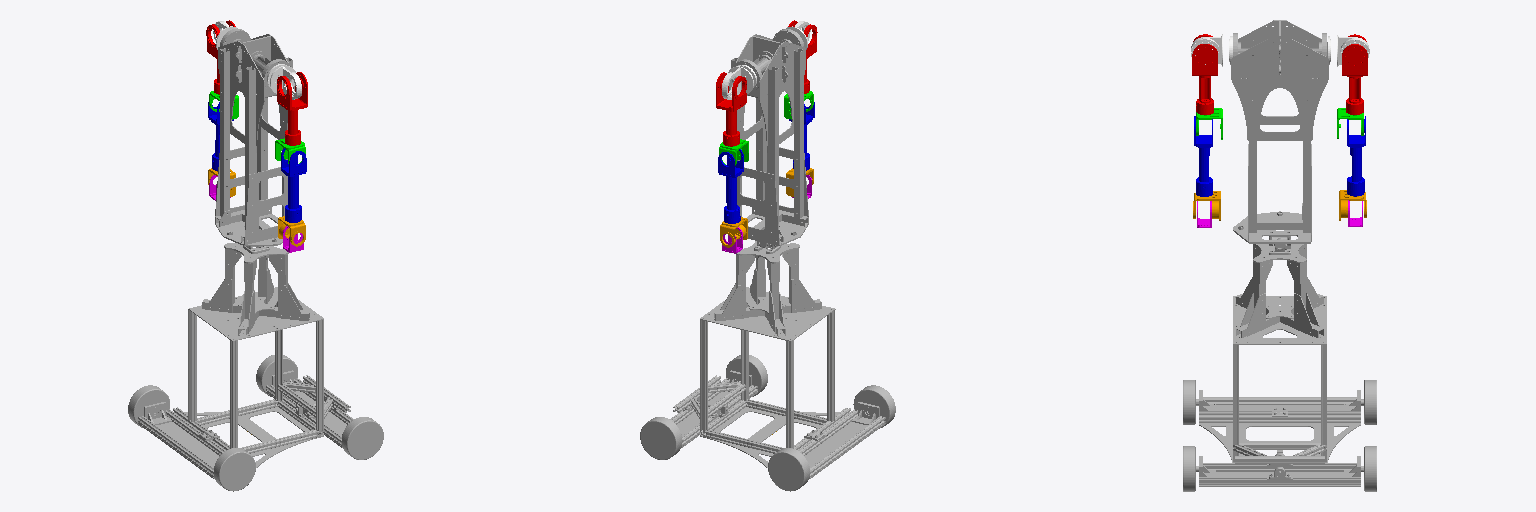
The robot description file, URDF, robot "neurofull":
<robot
  name="neurofull">
  <link 
    name="base_footprint">
    <visual>
    <origin rpy="0 0 0" xyz="0 0 0"/>
    <geometry>
       <box size="0.05 0.05 0.001"/>
    </geometry>
    <material name="TransparentGreen"/>
    </visual>
  </link>


  <link
    name="base_leg">
    <inertial>
      <origin
        xyz="0.00400262678839125 2.1950555277872E-06 0.0344645056443236"
        rpy="0 0 0" />
      <mass
        value="4.96180110119092" />
      <inertia
        ixx="0.260181029472697"
        ixy="-1.8355788022317E-06"
        ixz="-0.00155137956745712"
        iyy="0.263728282272559"
        iyz="1.00993985627843E-07"
        izz="0.488283544882969" />
    </inertial>
    <visual>
      <origin
        xyz="0 0 0"
        rpy="0 0 0" />
      <geometry>
        <mesh
          filename="package://neurofull/meshes/base_leg.stl" />
      </geometry>
      <material
        name="">
        <color
          rgba="0.752941176470588 0.752941176470588 0.752941176470588 1" />
      </material>
    </visual>
    <collision>
      <origin
        xyz="0 0 0"
        rpy="0 0 0" />
      <geometry>
        <mesh
          filename="package://neurofull/meshes/base_leg.stl" />
      </geometry>
    </collision>
  </link>

  <joint name="joint_footprint" type="fixed">
    <origin rpy="0 0 0" xyz="0 0 0"/>
    <parent link="base_footprint"/>
    <child link="base_leg"/>
  </joint>


  <link
    name="base_link">
    <inertial>
      <origin
        xyz="-0.00763079814674683 -0.000785897750140402 0.497022585106364"
        rpy="0 0 0" />
      <mass
        value="2.64772097817827" />
      <inertia
        ixx="0.355578054616091"
        ixy="0.00054044346883383"
        ixz="0.00826972267071127"
        iyy="0.354512666156879"
        iyz="-0.00128012471195156"
        izz="0.0346040156500564" />
    </inertial>
    <visual>
      <origin
        xyz="0 0 0"
        rpy="0 0 0" />
      <geometry>
        <mesh
          filename="package://neurofull/meshes/base_link.stl" />
      </geometry>
      <material
        name="">
        <color
          rgba="0.752941176470588 0.752941176470588 0.752941176470588 1" />
      </material>
    </visual>
    <collision>
      <origin
        xyz="0 0 0"
        rpy="0 0 0" />
      <geometry>
        <mesh
          filename="package://neurofull/meshes/base_link.stl" />
      </geometry>
    </collision>
  </link>
  <joint
    name="base_link_joint"
    type="fixed">
    <origin
      xyz="0 0 0.423"
      rpy="0 0 0" />
    <parent
      link="base_leg" />
    <child
      link="base_link" />
    <axis
      xyz="0 0 0" />
  </joint>

  <link
    name="left_arm_link0">
  </link>
  <joint
    name="left_arm_joint0"
    type="fixed">
    <origin
      xyz="0 0.146 0.917"
      rpy="-1.5708 0 0" />
    <parent
      link="base_link" />
    <child
      link="left_arm_link0" />
    <axis
      xyz="0 0 0" />
  </joint>




  <link
    name="left_arm_link1">
    <inertial>
      <origin
        xyz="0.00300938170182485 4.17797500410488E-05 0.0472461416838423"
        rpy="0 0 0" />
      <mass
        value="0.139895412046326" />
      <inertia
        ixx="0.000291527799787079"
        ixy="7.02048677679412E-07"
        ixz="-1.54733263205051E-05"
        iyy="0.000240969210302021"
        iyz="-2.14818780078269E-07"
        izz="0.000151629908718559" />
    </inertial>
    <visual>
      <origin
        xyz="0 0 0"
        rpy="0 0 0" />
      <geometry>
        <mesh
          filename="package://neurofull/meshes/left_arm_link1.stl" />
      </geometry>
      <material
        name="">
        <color
          rgba="1 1 1 1" />
      </material>
    </visual>
    <collision>
      <origin
        xyz="0 0 0"
        rpy="0 0 0" />
      <geometry>
        <mesh
          filename="package://neurofull/meshes/left_arm_link1.stl" />
      </geometry>
    </collision>
  </link>
  <joint
    name="left_arm_join1"
    type="revolute">
    <origin
      xyz="0 0 0.001"
      rpy="0 0 0" />
    <parent
      link="left_arm_link0" />
    <child
      link="left_arm_link1" />
    <axis
      xyz="0 0 -1" />
    <limit
      lower="-1.57"
      upper="1.57"
      effort="2"
      velocity="1" />
  </joint>
  <link
    name="left_arm_link2">
    <inertial>
      <origin
        xyz="0.0747629358729344 -4.29495040954464E-06 0.00679271522336344"
        rpy="0 0 0" />
      <mass
        value="0.222706771538381" />
      <inertia
        ixx="0.000221293565894878"
        ixy="9.64715999128791E-08"
        ixz="1.17177262431235E-05"
        iyy="0.00108680182339941"
        iyz="7.3745697887011E-10"
        izz="0.00105620684573982" />
    </inertial>
    <visual>
      <origin
        xyz="0 0 0"
        rpy="0 0 0" />
      <geometry>
        <mesh
          filename="package://neurofull/meshes/left_arm_link2.stl" />
      </geometry>
      <material
        name="">
        <color
          rgba="1 0 0 1" />
      </material>
    </visual>
    <collision>
      <origin
        xyz="0 0 0"
        rpy="0 0 0" />
      <geometry>
        <mesh
          filename="package://neurofull/meshes/left_arm_link2.stl" />
      </geometry>
    </collision>
  </link>
  <joint
    name="left_arm_joint2"
    type="revolute">
    <origin
      xyz="-0.0039996 -5.5527E-05 0.084"
      rpy="1.5708 0 1.5708" />
    <parent
      link="left_arm_link1" />
    <child
      link="left_arm_link2" />
    <axis
      xyz="-0.00059831 0 -1" />
    <limit
      lower="-0.78"
      upper="0.78"
      effort="2"
      velocity="1" />
  </joint>
  <link
    name="left_arm_link3">
    <inertial>
      <origin
        xyz="0.0153020226123045 1.11022302462516E-16 0.0252980249667199"
        rpy="0 0 0" />
      <mass
        value="0.078971511055653" />
      <inertia
        ixx="7.19666232277633E-05"
        ixy="-2.29834747206398E-21"
        ixz="-1.68863370887188E-05"
        iyy="0.000116283270534729"
        iyz="5.15631306641055E-20"
        izz="0.000104168336512131" />
    </inertial>
    <visual>
      <origin
        xyz="0 0 0"
        rpy="0 0 0" />
      <geometry>
        <mesh
          filename="package://neurofull/meshes/left_arm_link3.stl" />
      </geometry>
      <material
        name="">
        <color
          rgba="0 1 0.00392156862745098 1" />
      </material>
    </visual>
    <collision>
      <origin
        xyz="0 0 0"
        rpy="0 0 0" />
      <geometry>
        <mesh
          filename="package://neurofull/meshes/left_arm_link3.stl" />
      </geometry>
    </collision>
  </link>
  <joint
    name="left_arm_joint3"
    type="revolute">
    <origin
      xyz="0.20512 0 0.0071533"
      rpy="-1.5847 5.8872E-15 -1.5708" />
    <parent
      link="left_arm_link2" />
    <child
      link="left_arm_link3" />
    <axis
      xyz="0 0 -1" />
    <limit
      lower="-3.14"
      upper="3.14"
      effort="2"
      velocity="1" />
  </joint>
  <link
    name="left_arm_link4">
    <inertial>
      <origin
        xyz="0.110276144822307 -0.00150620140288349 -0.00524029089318234"
        rpy="0 0 0" />
      <mass
        value="0.163592437075005" />
      <inertia
        ixx="9.18715474899927E-05"
        ixy="1.14360963815123E-05"
        ixz="-1.44049786151869E-05"
        iyy="0.000940484151135754"
        iyz="1.90547978307357E-07"
        izz="0.000935522761640683" />
    </inertial>
    <visual>
      <origin
        xyz="0 0 0"
        rpy="0 0 0" />
      <geometry>
        <mesh
          filename="package://neurofull/meshes/left_arm_link4.stl" />
      </geometry>
      <material
        name="">
        <color
          rgba="0 0 1 1" />
      </material>
    </visual>
    <collision>
      <origin
        xyz="0 0 0"
        rpy="0 0 0" />
      <geometry>
        <mesh
          filename="package://neurofull/meshes/left_arm_link4.stl" />
      </geometry>
    </collision>
  </link>
  <joint
    name="left_arm_joint4"
    type="revolute">
    <origin
      xyz="0.0005 0 0.05"
      rpy="-1.5708 -1.5569 -1.5708" />
    <parent
      link="left_arm_link3" />
    <child
      link="left_arm_link4" />
    <axis
      xyz="0 0 1" />
    <limit
      lower="-1.57"
      upper="1.57"
      effort="2"
      velocity="1" />
  </joint>
  <link
    name="left_arm_link5">
    <inertial>
      <origin
        xyz="-0.0172107616415242 0.00307675448483002 -0.0343646132131293"
        rpy="0 0 0" />
      <mass
        value="0.0975990294014391" />
      <inertia
        ixx="9.17613388444776E-05"
        ixy="1.93938108659678E-06"
        ixz="-2.18069280623664E-05"
        iyy="0.000145599253848535"
        iyz="3.27545465049375E-06"
        izz="0.000109308596470807" />
    </inertial>
    <visual>
      <origin
        xyz="0 0 0"
        rpy="0 0 0" />
      <geometry>
        <mesh
          filename="package://neurofull/meshes/left_arm_link5.stl" />
      </geometry>
      <material
        name="">
        <color
          rgba="1 0.666666666666667 0 1" />
      </material>
    </visual>
    <collision>
      <origin
        xyz="0 0 0"
        rpy="0 0 0" />
      <geometry>
        <mesh
          filename="package://neurofull/meshes/left_arm_link5.stl" />
      </geometry>
    </collision>
  </link>
  <joint
    name="left_arm_joint5"
    type="revolute">
    <origin
      xyz="0.22798 -0.0031651 -0.0029121"
      rpy="3.0662 1.5708 0" />
    <parent
      link="left_arm_link4" />
    <child
      link="left_arm_link5" />
    <axis
      xyz="0 -0.089176 0.99602" />
    <limit
      lower="-3.14"
      upper="3.14"
      effort="2"
      velocity="1" />
  </joint>
  <link
    name="left_arm_link6">
    <inertial>
      <origin
        xyz="-0.000399331301654704 -0.0287637027705798 0.000345123561378113"
        rpy="0 0 0" />
      <mass
        value="0.0342933650278285" />
      <inertia
        ixx="2.81251487192025E-05"
        ixy="-9.52330011495129E-08"
        ixz="8.00630003676371E-09"
        iyy="2.12668689963334E-05"
        iyz="5.76691167452361E-07"
        izz="2.57654425067355E-05" />
    </inertial>
    <visual>
      <origin
        xyz="0 0 0"
        rpy="0 0 0" />
      <geometry>
        <mesh
          filename="package://neurofull/meshes/left_arm_link6.stl" />
      </geometry>
      <material
        name="">
        <color
          rgba="1 0 1 1" />
      </material>
    </visual>
    <collision>
      <origin
        xyz="0 0 0"
        rpy="0 0 0" />
      <geometry>
        <mesh
          filename="package://neurofull/meshes/left_arm_link6.stl" />
      </geometry>
    </collision>
  </link>
  <joint
    name="left_arm_joint6"
    type="revolute">
    <origin
      xyz="0.001 0.0049047 -0.054781"
      rpy="1.5708 0.075412 -1.5708" />
    <parent
      link="left_arm_link5" />
    <child
      link="left_arm_link6" />
    <axis
      xyz="0 0 1" />
    <limit
      lower="-1.57"
      upper="1.57"
      effort="2"
      velocity="1" />
  </joint>
  <link
    name="right_arm_link1">
    <inertial>
      <origin
        xyz="0.00300967116680029 -1.80070211996952E-06 0.0472461416840107"
        rpy="0 0 0" />
      <mass
        value="0.139895412046325" />
      <inertia
        ixx="0.000291537528341602"
        ixy="-3.02611226515367E-08"
        ixz="-1.54748146614687E-05"
        iyy="0.000240959481748641"
        iyz="9.25866316314585E-09"
        izz="0.000151629908718559" />
    </inertial>
    <visual>
      <origin
        xyz="0 0 0"
        rpy="0 0 0" />
      <geometry>
        <mesh
          filename="package://neurofull/meshes/right_arm_link1.stl" />
      </geometry>
      <material
        name="">
        <color
          rgba="1 1 1 1" />
      </material>
    </visual>
    <collision>
      <origin
        xyz="0 0 0"
        rpy="0 0 0" />
      <geometry>
        <mesh
          filename="package://neurofull/meshes/right_arm_link1.stl" />
      </geometry>
    </collision>
  </link>
  <joint
    name="right_arm_joint1"
    type="revolute">
    <origin
      xyz="0 -0.146 0.918"
      rpy="1.5708 0 0" />
    <parent
      link="base_link" />
    <child
      link="right_arm_link1" />
    <axis
      xyz="0 0 1" />
    <limit
      lower="-1.57"
      upper="1.57"
      effort="2"
      velocity="1" />
  </joint>
  <link
    name="right_arm_link2">
    <inertial>
      <origin
        xyz="0.0746661079181091 -4.29495033152372E-06 0.00778523531588626"
        rpy="0 0 0" />
      <mass
        value="0.222706771537626" />
      <inertia
        ixx="0.000221129610017924"
        ixy="9.6453292163997E-08"
        ixz="6.23932395302156E-07"
        iyy="0.00108680182343279"
        iyz="2.01887974864766E-09"
        izz="0.00105637080165108" />
    </inertial>
    <visual>
      <origin
        xyz="0 0 0"
        rpy="0 0 0" />
      <geometry>
        <mesh
          filename="package://neurofull/meshes/right_arm_link2.stl" />
      </geometry>
      <material
        name="">
        <color
          rgba="1 0 0 1" />
      </material>
    </visual>
    <collision>
      <origin
        xyz="0 0 0"
        rpy="0 0 0" />
      <geometry>
        <mesh
          filename="package://neurofull/meshes/right_arm_link2.stl" />
      </geometry>
    </collision>
  </link>
  <joint
    name="right_arm_joint2"
    type="revolute">
    <origin
      xyz="-0.004 0 0.084"
      rpy="-1.5708 0 -1.5708" />
    <parent
      link="right_arm_link1" />
    <child
      link="right_arm_link2" />
    <axis
      xyz="-0.00059831 0 -1" />
    <limit
      lower="-0.78"
      upper="0.78"
      effort="2"
      velocity="1" />
  </joint>
  <link
    name="right_arm_link3">
    <inertial>
      <origin
        xyz="0.0153020226123045 -4.44089209850063E-16 0.0252980249667199"
        rpy="0 0 0" />
      <mass
        value="0.0789715110556525" />
      <inertia
        ixx="7.1966623227763E-05"
        ixy="9.12970822603372E-19"
        ixz="-1.68863370887186E-05"
        iyy="0.000116283270534728"
        iyz="2.77416525115584E-19"
        izz="0.000104168336512131" />
    </inertial>
    <visual>
      <origin
        xyz="0 0 0"
        rpy="0 0 0" />
      <geometry>
        <mesh
          filename="package://neurofull/meshes/right_arm_link3.stl" />
      </geometry>
      <material
        name="">
        <color
          rgba="0 1 0.00392156862745098 1" />
      </material>
    </visual>
    <collision>
      <origin
        xyz="0 0 0"
        rpy="0 0 0" />
      <geometry>
        <mesh
          filename="package://neurofull/meshes/right_arm_link3.stl" />
      </geometry>
    </collision>
  </link>
  <joint
    name="right_arm_joint3"
    type="revolute">
    <origin
      xyz="0.20501 0 0.0098773"
      rpy="1.5714 8.5249E-17 1.5708" />
    <parent
      link="right_arm_link2" />
    <child
      link="right_arm_link3" />
    <axis
      xyz="0 0.013284 -0.99991" />
    <limit
      lower="-3.14"
      upper="3.14"
      effort="2"
      velocity="1" />
  </joint>
  <link
    name="right_arm_link4">
    <inertial>
      <origin
        xyz="0.110286393193599 9.07633075035719E-05 -0.00524029088871542"
        rpy="0 0 0" />
      <mass
        value="0.163592437071327" />
      <inertia
        ixx="9.1718321663276E-05"
        ixy="-8.5538514906755E-07"
        ixz="-1.44062275602948E-05"
        iyy="0.000940637376901673"
        iyz="-1.80574628596523E-08"
        izz="0.000935522761578219" />
    </inertial>
    <visual>
      <origin
        xyz="0 0 0"
        rpy="0 0 0" />
      <geometry>
        <mesh
          filename="package://neurofull/meshes/right_arm_link4.stl" />
      </geometry>
      <material
        name="">
        <color
          rgba="0 0 1 1" />
      </material>
    </visual>
    <collision>
      <origin
        xyz="0 0 0"
        rpy="0 0 0" />
      <geometry>
        <mesh
          filename="package://neurofull/meshes/right_arm_link4.stl" />
      </geometry>
    </collision>
  </link>
  <joint
    name="right_arm_joint4"
    type="revolute">
    <origin
      xyz="0.0005 0 0.05"
      rpy="1.5708 -1.5702 1.5708" />
    <parent
      link="right_arm_link3" />
    <child
      link="right_arm_link4" />
    <axis
      xyz="0 0 -1" />
    <limit
      lower="-1.57"
      upper="1.57"
      effort="2"
      velocity="1" />
  </joint>
  <link
    name="right_arm_link5">
    <inertial>
      <origin
        xyz="-0.0172107616415194 -2.06427685620625E-05 -0.0345020670877002"
        rpy="0 0 0" />
      <mass
        value="0.0975990294014401" />
      <inertia
        ixx="9.17613388444844E-05"
        ixy="-2.60974087719177E-08"
        ixz="-2.18929812826313E-05"
        iyy="0.000145892500744109"
        iyz="-2.2063801782706E-08"
        izz="0.000109015349575228" />
    </inertial>
    <visual>
      <origin
        xyz="0 0 0"
        rpy="0 0 0" />
      <geometry>
        <mesh
          filename="package://neurofull/meshes/right_arm_link5.stl" />
      </geometry>
      <material
        name="">
        <color
          rgba="1 0.666666666666667 0 1" />
      </material>
    </visual>
    <collision>
      <origin
        xyz="0 0 0"
        rpy="0 0 0" />
      <geometry>
        <mesh
          filename="package://neurofull/meshes/right_arm_link5.stl" />
      </geometry>
    </collision>
  </link>
  <joint
    name="right_arm_joint5"
    type="revolute">
    <origin
      xyz="0.228 0.00013641 -0.0029121"
      rpy="3.1416 1.5708 0" />
    <parent
      link="right_arm_link4" />
    <child
      link="right_arm_link5" />
    <axis
      xyz="0 0.013882 0.9999" />
    <limit
      lower="-3.14"
      upper="3.14"
      effort="2"
      velocity="1" />
  </joint>
  <link
    name="right_arm_link6">
    <inertial>
      <origin
        xyz="-1.72111302869649E-05 -0.02876646947993 -0.000345123561374117"
        rpy="0 0 0" />
      <mass
        value="0.0342933650278285" />
      <inertia
        ixx="2.81264683989044E-05"
        ixy="-4.10492551289922E-09"
        ixz="-3.45070552990902E-10"
        iyy="2.12655493166313E-05"
        iyz="-5.76746637947283E-07"
        izz="2.57654425067357E-05" />
    </inertial>
    <visual>
      <origin
        xyz="0 0 0"
        rpy="0 0 0" />
      <geometry>
        <mesh
          filename="package://neurofull/meshes/right_arm_link6.stl" />
      </geometry>
      <material
        name="">
        <color
          rgba="1 0 1 1" />
      </material>
    </visual>
    <collision>
      <origin
        xyz="0 0 0"
        rpy="0 0 0" />
      <geometry>
        <mesh
          filename="package://neurofull/meshes/right_arm_link6.stl" />
      </geometry>
    </collision>
  </link>
  <joint
    name="right_arm_joint6"
    type="revolute">
    <origin
      xyz="0.001 -3.2907E-05 -0.055"
      rpy="1.5708 0 1.5708" />
    <parent
      link="right_arm_link5" />
    <child
      link="right_arm_link6" />
    <axis
      xyz="0 0 1" />
    <limit
      lower="-1.57"
      upper="1.57"
      effort="2"
      velocity="1" />
  </joint>
</robot>

--- Facts derived from the render (not from the file) ---
3 views of the same robot in one strip: view 1: azimuth 30°, elevation 25°; view 2: azimuth 150°, elevation 25°; view 3: azimuth 270°, elevation 25° (orthographic).
Model neurofull with 16 links and 15 joints (12 revolute, 3 fixed), rooted at base_footprint, posed every joint at zero.
Visible links, largest first — view 1: base_link, base_leg, right_arm_link2, right_arm_link4, right_arm_link1; view 2: base_link, base_leg, left_arm_link2, left_arm_link4, left_arm_link1; view 3: base_link, base_leg, right_arm_link2, left_arm_link2, left_arm_link4, right_arm_link4.
Link boxes in pixels (bbox=[...]): base_link: bbox=[188, 28, 323, 341]; base_leg: bbox=[128, 302, 383, 491]; right_arm_link2: bbox=[277, 72, 307, 145]; right_arm_link4: bbox=[281, 148, 306, 222]; right_arm_link1: bbox=[267, 64, 301, 99]; base_link: bbox=[700, 29, 835, 341]; base_leg: bbox=[640, 302, 895, 491]; left_arm_link2: bbox=[716, 72, 746, 146]; left_arm_link4: bbox=[718, 149, 743, 223]; left_arm_link1: bbox=[722, 65, 756, 99]; base_link: bbox=[1231, 20, 1328, 344]; base_leg: bbox=[1183, 345, 1376, 491]; right_arm_link2: bbox=[1192, 34, 1217, 114]; left_arm_link2: bbox=[1342, 34, 1367, 114]; left_arm_link4: bbox=[1347, 116, 1365, 196]; right_arm_link4: bbox=[1194, 116, 1212, 196].
Bounding box of the posed robot: 0.624 × 0.6 × 1.45 m (x, y, z).
Meshes: 14 distinct files referenced, 14 mesh visuals loaded (14 binary STL).